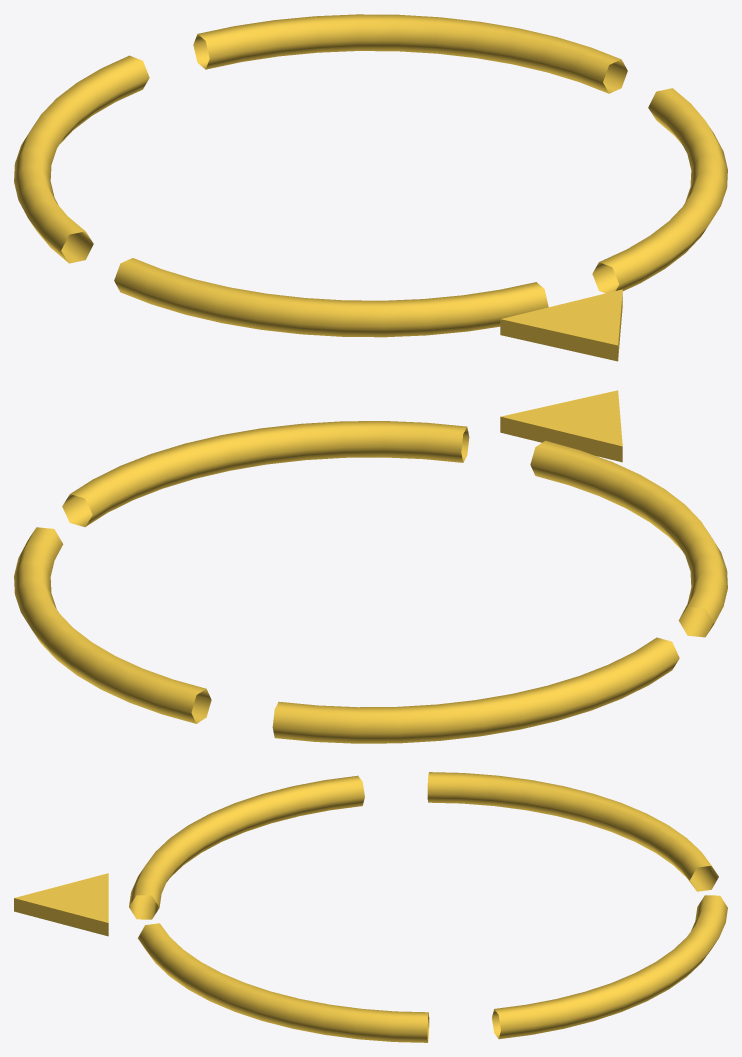
The model's file is player-foot-ring.glb.
The picture shows the model from 3 angles, top to bottom: view 1: azimuth 30°, elevation 25°; view 2: azimuth 150°, elevation 25°; view 3: azimuth 270°, elevation 25°; orthographic projection. The views are drawn at different scales.
Parts seen in each view (by area): view 1: ring-segment, ring-segment.002, ring-segment.003, ring-segment.001, front-arrow; view 2: ring-segment.003, ring-segment.001, ring-segment, ring-segment.002, front-arrow; view 3: ring-segment.003, ring-segment.001, ring-segment, ring-segment.002, front-arrow.
Part boxes in pixels (left/top/right/bottom): ring-segment: left=193, top=14, right=627, bottom=93; ring-segment.002: left=114, top=258, right=548, bottom=337; ring-segment.003: left=14, top=55, right=149, bottom=263; ring-segment.001: left=592, top=88, right=727, bottom=293; front-arrow: left=500, top=289, right=622, bottom=361; ring-segment.003: left=272, top=637, right=679, bottom=743; ring-segment.001: left=62, top=421, right=469, bottom=526; ring-segment: left=14, top=527, right=211, bottom=723; ring-segment.002: left=530, top=440, right=727, bottom=637; front-arrow: left=500, top=390, right=622, bottom=462; ring-segment.003: left=427, top=772, right=718, bottom=891; ring-segment.001: left=138, top=923, right=429, bottom=1042; ring-segment: left=492, top=895, right=727, bottom=1039; ring-segment.002: left=129, top=775, right=364, bottom=919; front-arrow: left=14, top=873, right=108, bottom=936.
Bounding box in the file's own units: 1.01 × 0.045 × 1.21.
